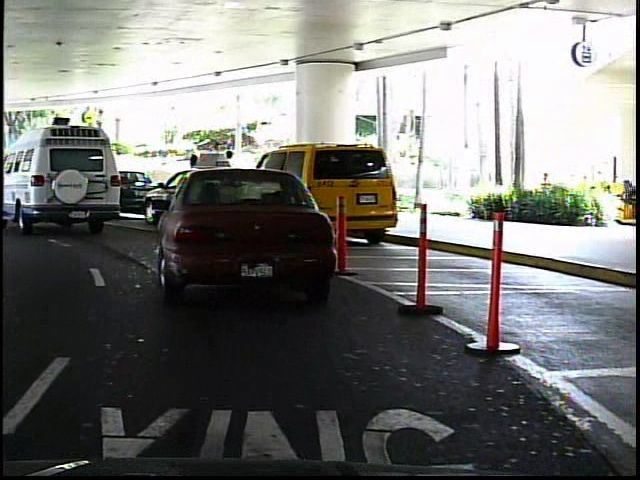person: (220, 146, 245, 210), (57, 155, 79, 198), (4, 158, 22, 198)
